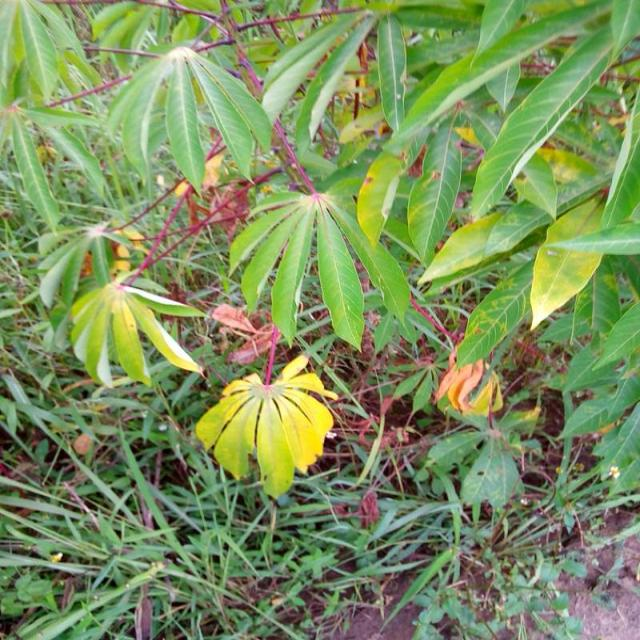cassava leaf: (107, 44, 273, 197), (195, 350, 338, 500)
